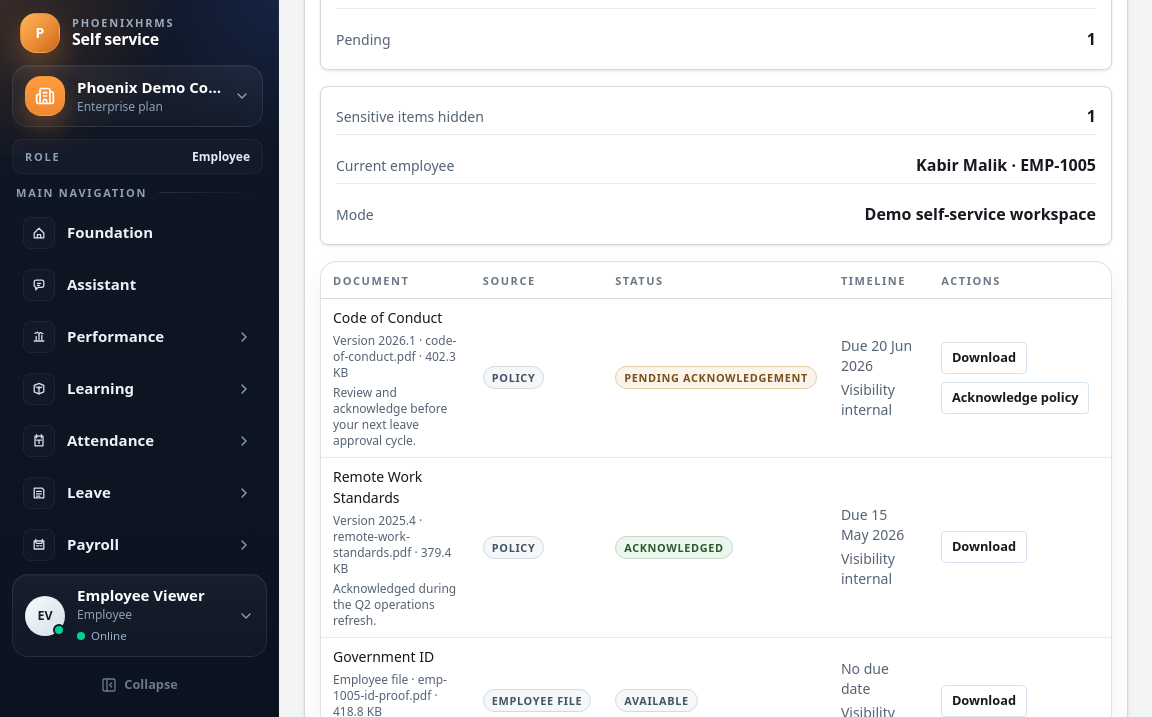
SelfServiceDocumentsPage › supports pending acknowledgement and download flows for the employee demo persona
(page scrolled)
Expected: the text "Pending acknowledgement" is shown, [615,366,817,389]
Click the button "Download" in the row of "Pending acknowledgement": coordinates (984, 358) [941,342,1027,374]
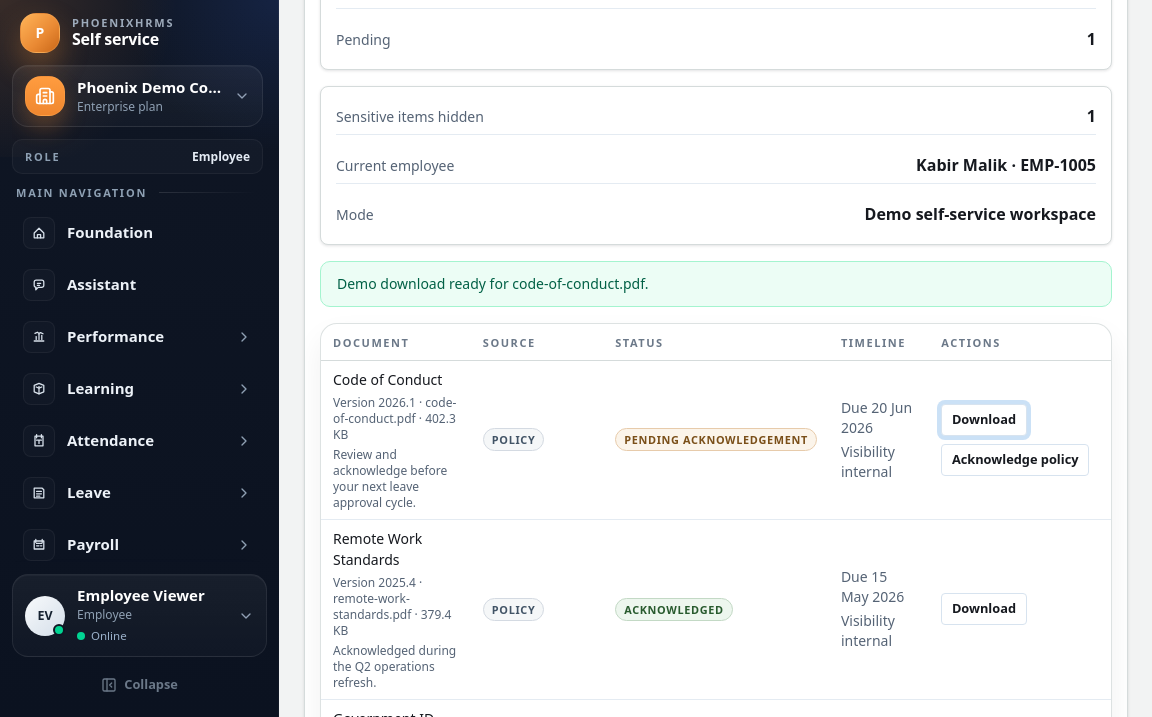
Now the text "Demo download ready for code-of-conduct.pdf." is shown, box [320,261,1112,307]
Click the button "Acknowledge policy": coordinates (1015, 460) [941,444,1089,476]
(page scrolled)
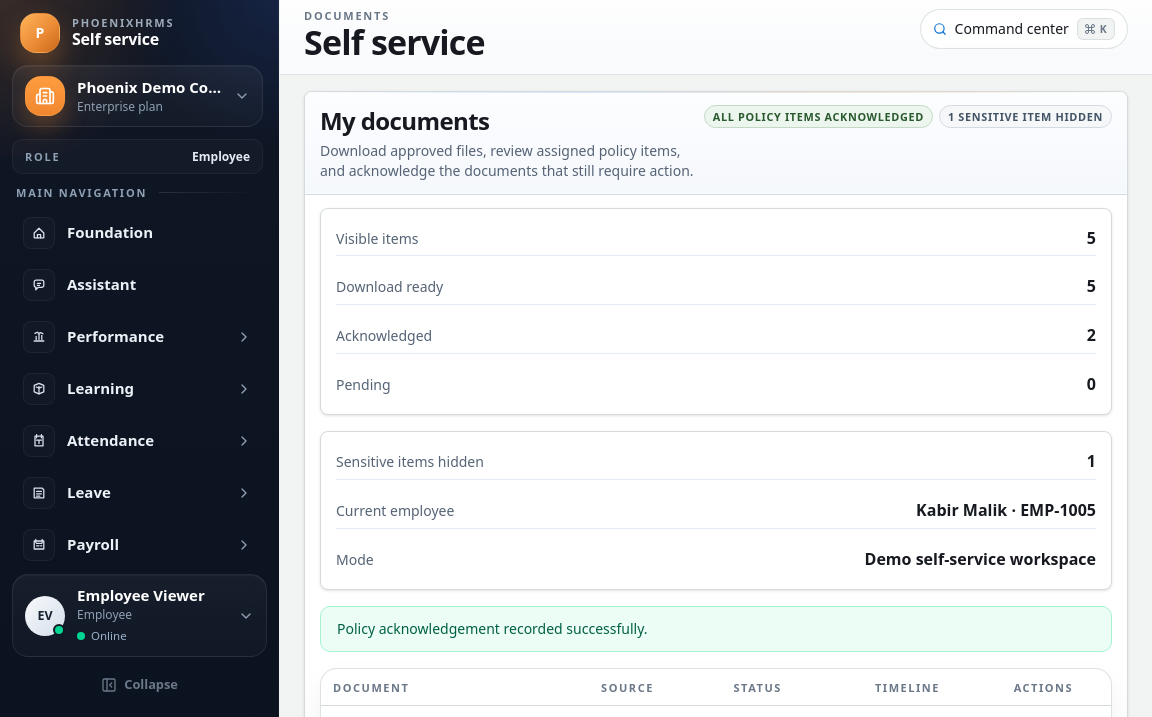
Now the text "Policy acknowledgement recorded successfully." is shown, box [320,606,1112,652]
Now the text "All policy items acknowledged" is shown, box [704,105,933,128]
